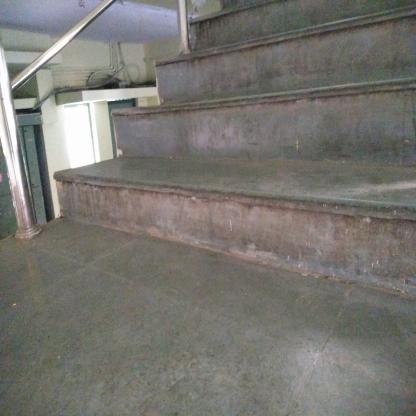stairs: (191, 15, 416, 301)
